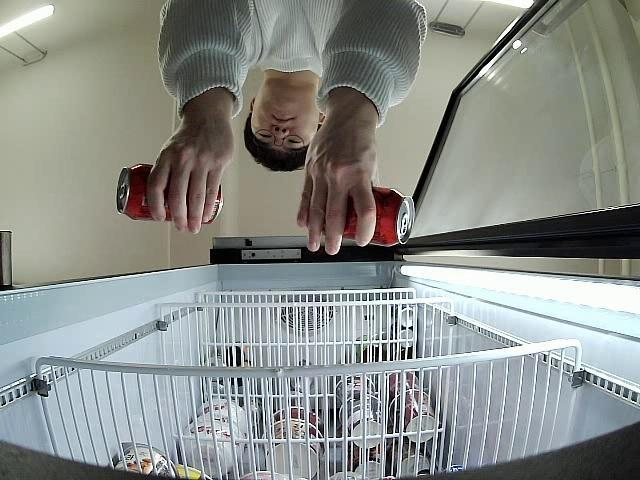11_cocaColaZero: (116, 164, 223, 225), (308, 187, 415, 246)
